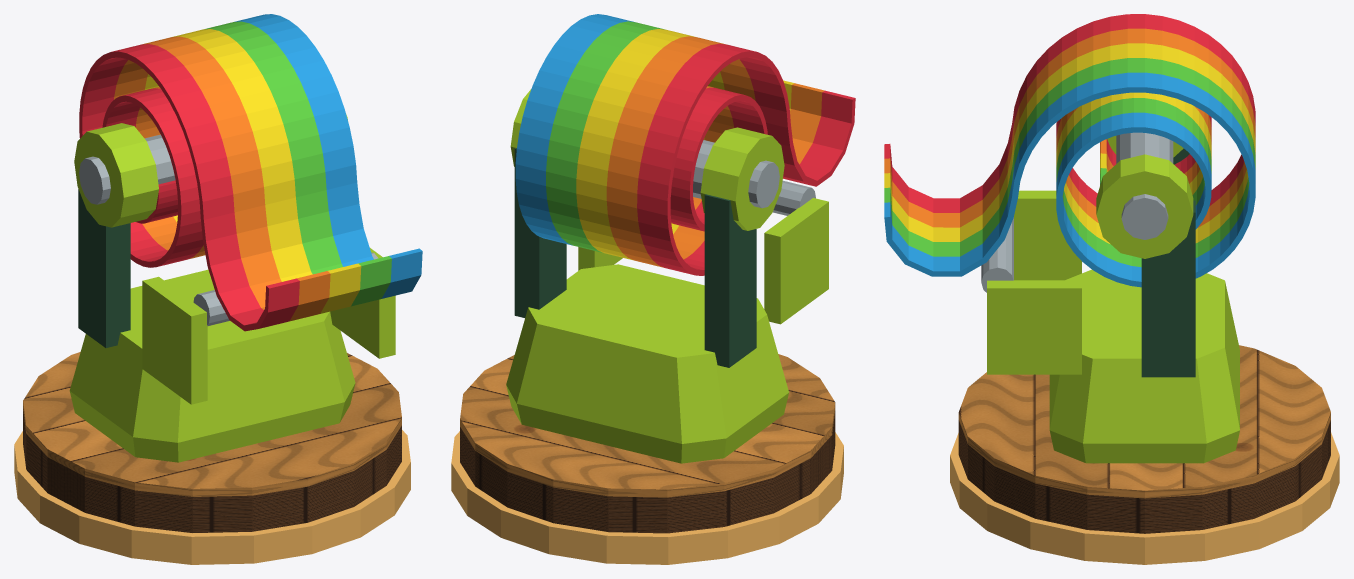
The model's file is SourBelt.glb.
3 renders of one model, left to right at view 1: azimuth 30°, elevation 25°; view 2: azimuth 150°, elevation 25°; view 3: azimuth 270°, elevation 25°, orthographic. The views are drawn at different scales.
Parts seen in each view (by area): view 1: pedestal, Lime launcher housing, Sour ribbon - Red, rim, Sour ribbon - Orange, Sour ribbon - Yellow, Sour ribbon - Blue, Sour ribbon - Green, Feed guide bracket, Reel fork, Lime reel hub, Feed guide bracket.001 (+3 smaller); view 2: Lime launcher housing, pedestal, Sour ribbon - Red, rim, Sour ribbon - Orange, Reel fork, Sour ribbon - Yellow, Sour ribbon - Green, Sour ribbon - Blue, Feed guide bracket, Lime reel hub, Reel fork.001 (+4 smaller); view 3: pedestal, Lime launcher housing, Sour ribbon - Blue, rim, Sour ribbon - Green, Sour ribbon - Yellow, Feed guide bracket.001, Sour ribbon - Orange, Reel fork.001, Sour ribbon - Red, Lime reel hub.001, Feed guide bracket (+3 smaller).
Part boxes in pixels (bbox=[...]): pedestal: bbox=[23, 352, 401, 532]; Lime launcher housing: bbox=[69, 269, 355, 462]; Sour ribbon - Red: bbox=[79, 44, 299, 331]; rim: bbox=[14, 430, 410, 564]; Sour ribbon - Orange: bbox=[114, 36, 330, 321]; Sour ribbon - Yellow: bbox=[145, 29, 361, 313]; Sour ribbon - Blue: bbox=[234, 14, 422, 298]; Sour ribbon - Green: bbox=[204, 21, 391, 306]; Feed guide bracket: bbox=[142, 276, 207, 404]; Reel fork: bbox=[78, 189, 130, 347]; Lime reel hub: bbox=[74, 123, 158, 227]; Feed guide bracket.001: bbox=[330, 248, 395, 358]; Lime launcher housing: bbox=[506, 264, 788, 463]; pedestal: bbox=[460, 354, 835, 533]; Sour ribbon - Red: bbox=[637, 43, 855, 275]; rim: bbox=[451, 431, 843, 564]; Sour ribbon - Orange: bbox=[606, 36, 824, 267]; Reel fork: bbox=[704, 194, 756, 367]; Sour ribbon - Yellow: bbox=[576, 29, 794, 259]; Sour ribbon - Green: bbox=[546, 21, 664, 252]; Sour ribbon - Blue: bbox=[515, 14, 634, 245]; Feed guide bracket: bbox=[764, 198, 828, 324]; Lime reel hub: bbox=[700, 127, 784, 230]; Reel fork.001: bbox=[514, 148, 566, 317]; pedestal: bbox=[958, 345, 1330, 533]; Lime launcher housing: bbox=[1049, 269, 1239, 463]; Sour ribbon - Blue: bbox=[884, 72, 1255, 287]; rim: bbox=[950, 432, 1339, 564]; Sour ribbon - Green: bbox=[884, 58, 1255, 267]; Sour ribbon - Yellow: bbox=[884, 43, 1255, 243]; Feed guide bracket.001: bbox=[987, 280, 1081, 374]; Sour ribbon - Orange: bbox=[884, 28, 1255, 227]; Reel fork.001: bbox=[1141, 200, 1195, 377]; Sour ribbon - Red: bbox=[884, 14, 1255, 212]; Lime reel hub.001: bbox=[1096, 154, 1193, 258]; Feed guide bracket: bbox=[1014, 190, 1081, 280].
Size of the model in its own units: 0.9 by 1.1 by 1.05.
Materials: 11 (2 with a texture image).
